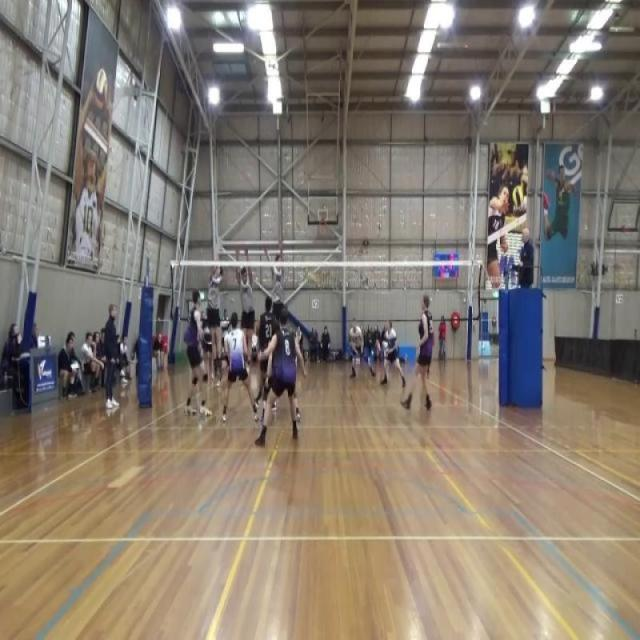volleyball: (94, 66, 107, 112), (512, 185, 523, 209), (308, 270, 319, 284)
